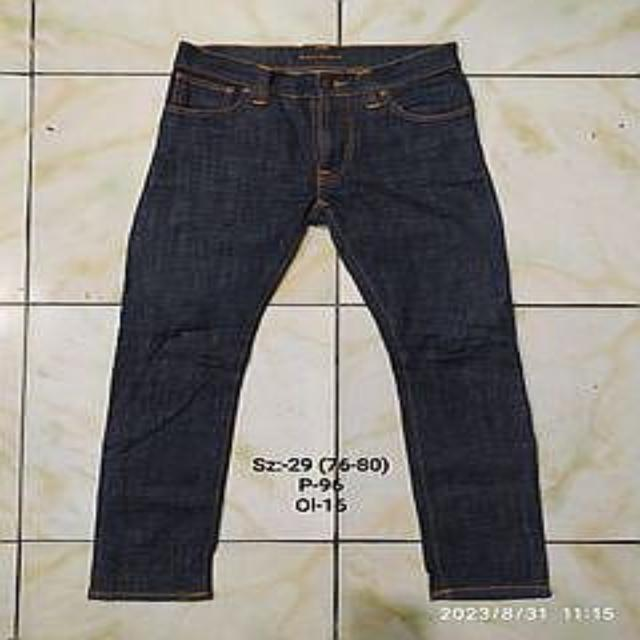TROUSER: (80, 36, 575, 606)
